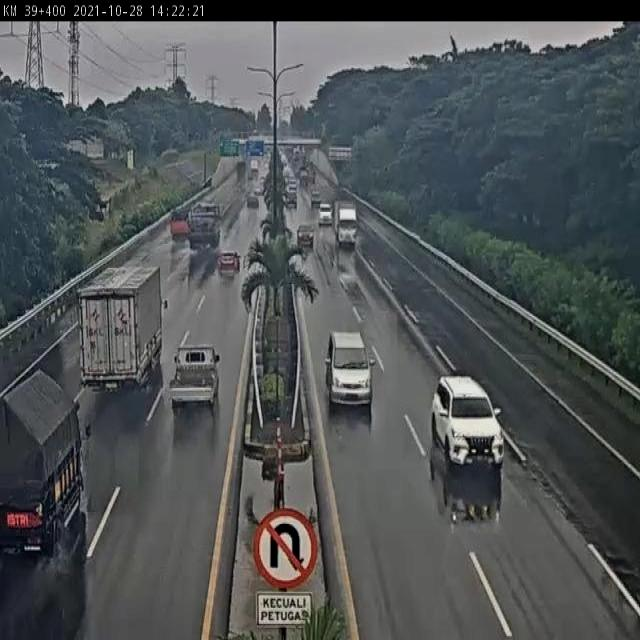Car: (430, 374, 506, 474), (217, 248, 240, 274), (296, 223, 315, 247), (317, 202, 334, 226), (245, 195, 259, 210), (310, 190, 322, 207), (286, 191, 298, 207), (288, 178, 297, 190), (254, 186, 262, 195)
Truck: (0, 368, 91, 558), (76, 266, 169, 394), (167, 345, 222, 413), (188, 200, 222, 248), (332, 199, 359, 246), (170, 209, 190, 239), (237, 161, 246, 177), (250, 158, 258, 172)
Van: (324, 331, 377, 408)
